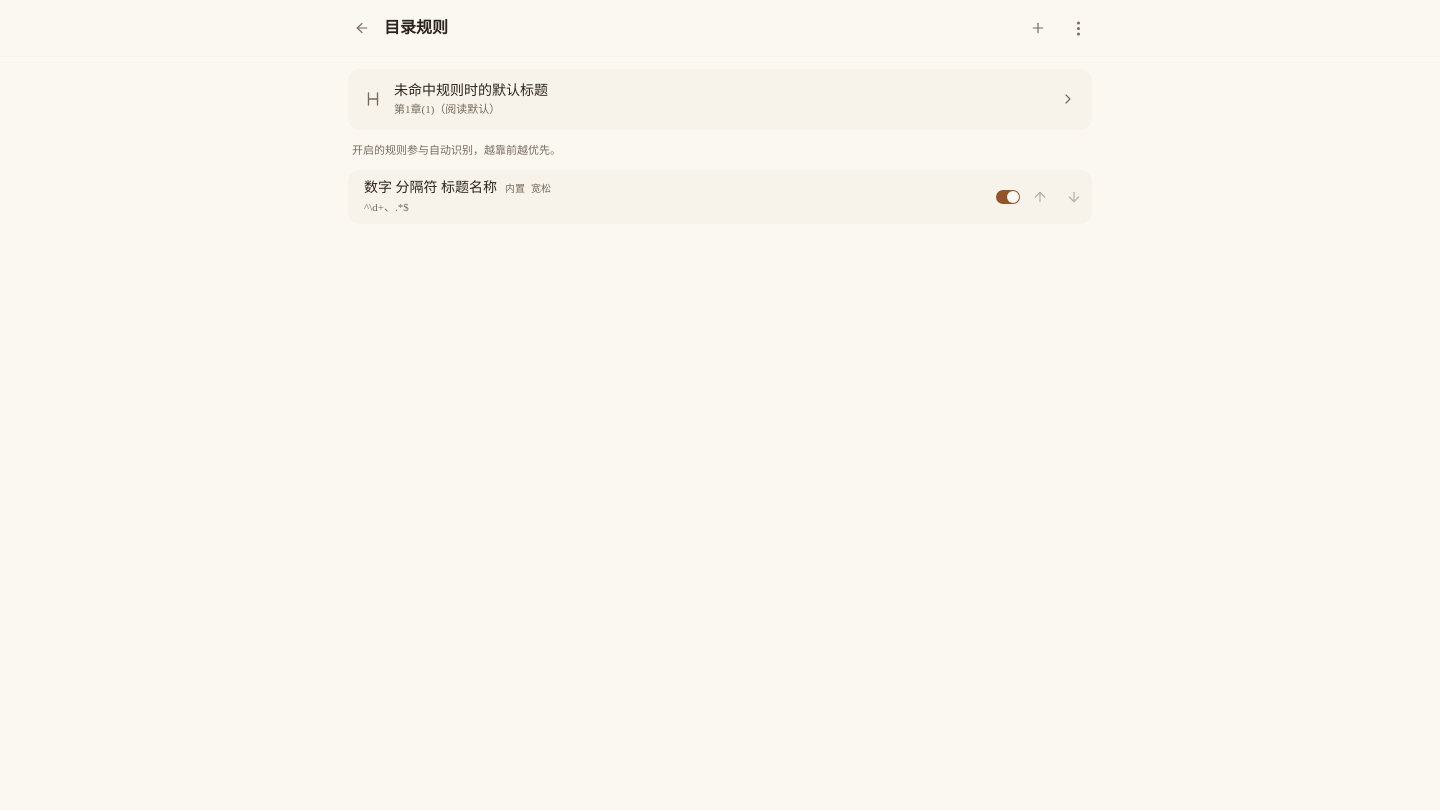
目录规则 page › sets the default titles of books no rule splits, and keeps import and export in More
The width and height of the screenshot is (1440, 810).
Expected: the text "宽松" is shown, x1=531 y1=183 x2=551 y2=194
Click the button named "更多".
click(1078, 28)  # box x1=1060 y1=10 x2=1096 y2=46
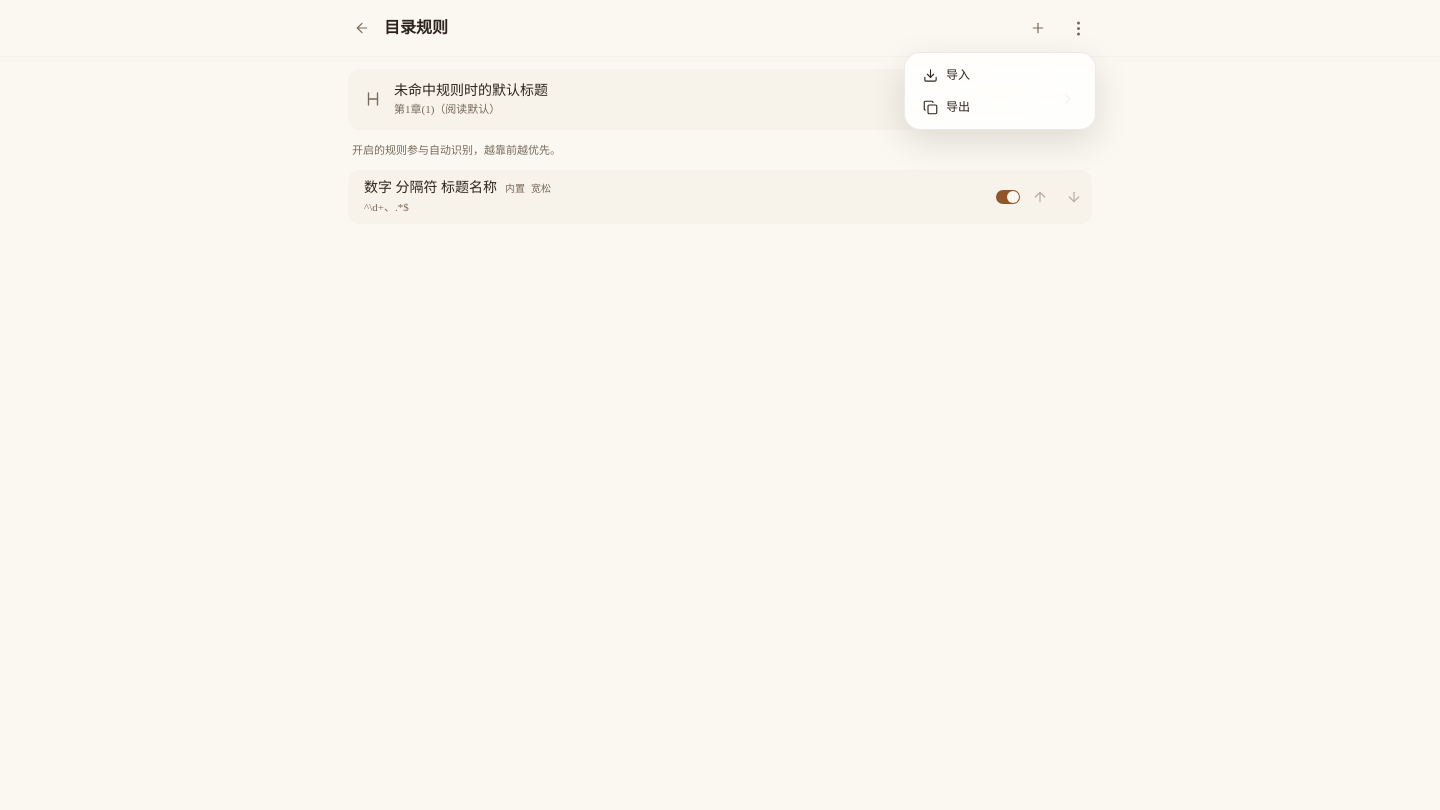
Expected: the menu item "导入" is shown, x1=923 y1=68 x2=970 y2=82
Expected: the menu item "导出" is shown, x1=923 y1=100 x2=970 y2=114
Press Escape
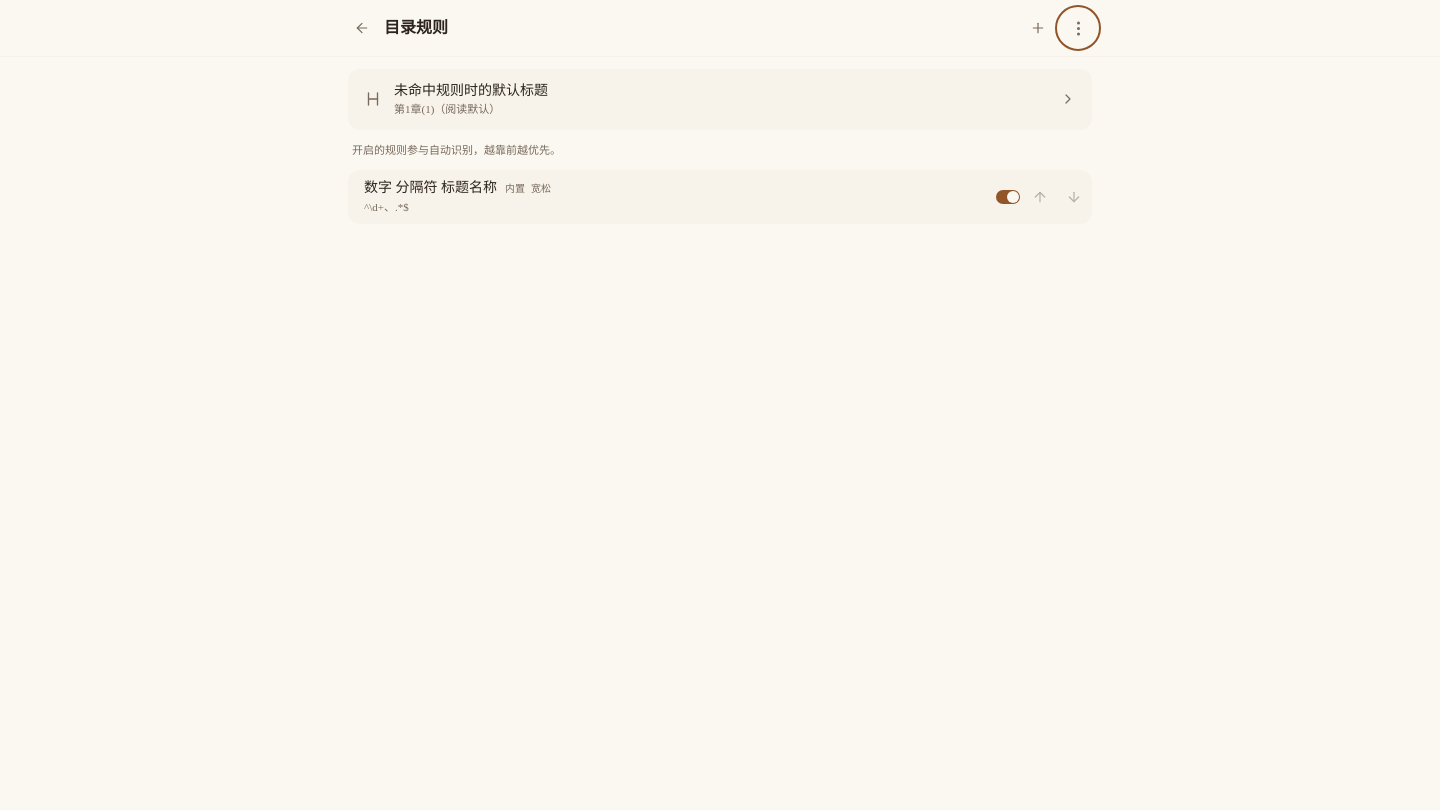
Click the button "未命中规则时的默认标题 第1章(1)（阅读默认）".
click(471, 90)  # box x1=348 y1=69 x2=1092 y2=130
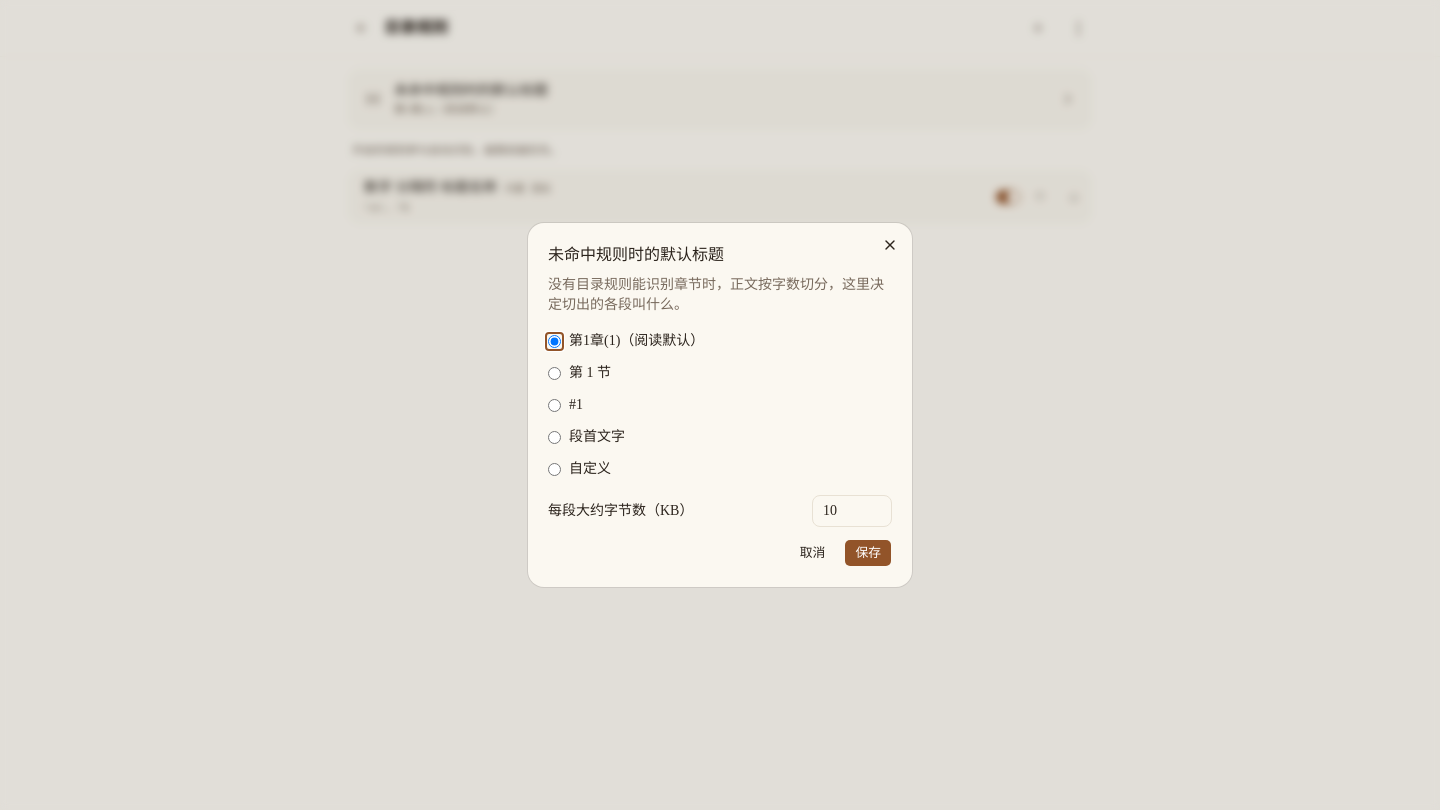
Click the radio button labelled "第 1 节".
click(554, 373)  # box x1=548 y1=366 x2=561 y2=380
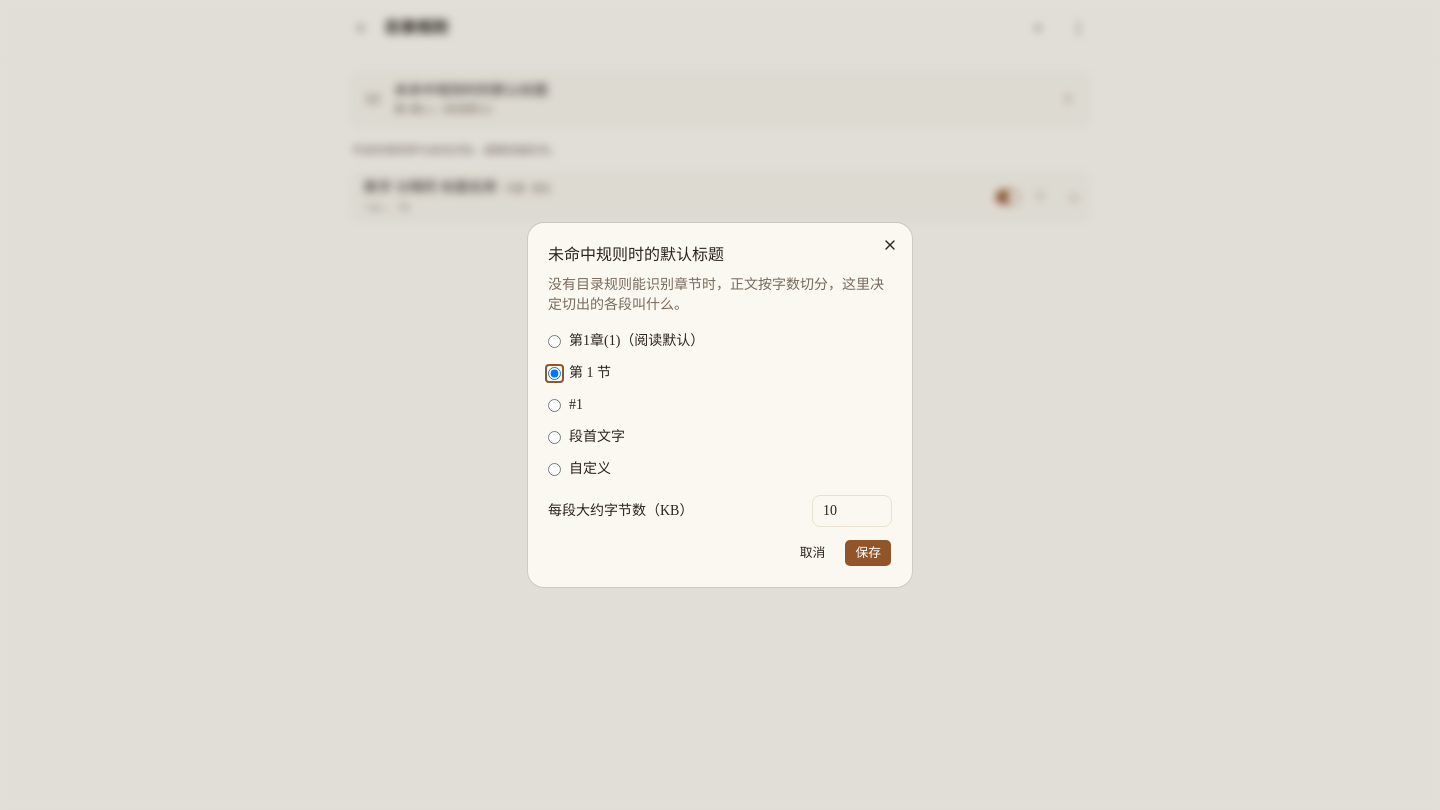
Click the button "保存".
click(868, 553)  # box x1=844 y1=539 x2=892 y2=567
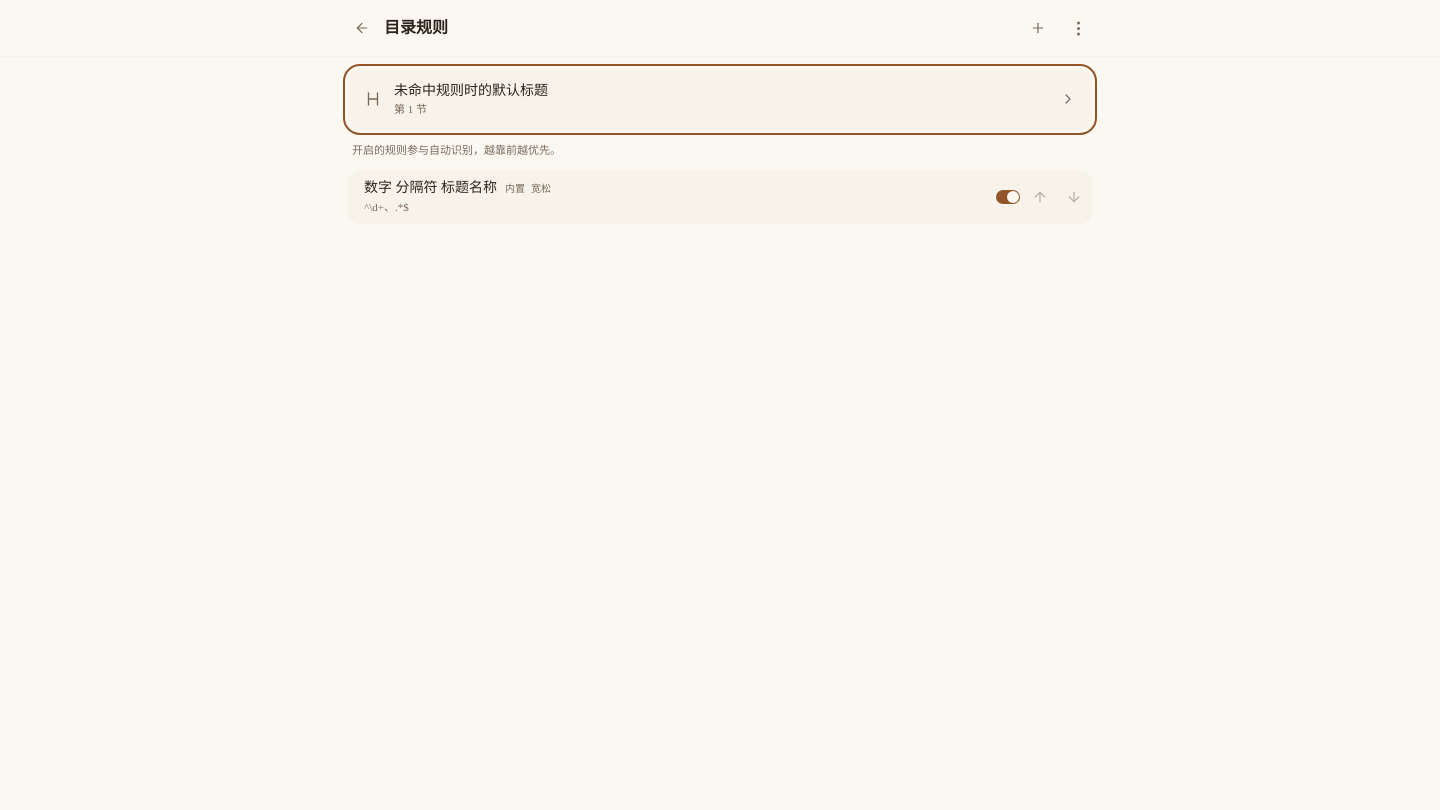
Expected: the text "第 1 节" is shown, x1=394 y1=103 x2=427 y2=115
